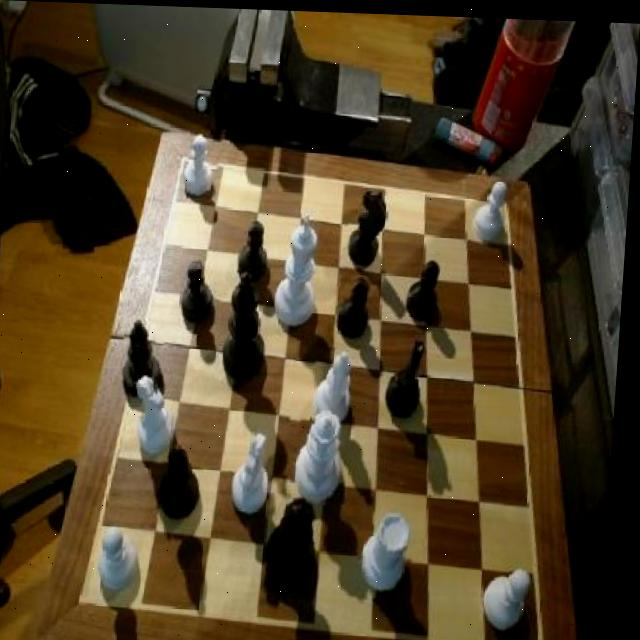bishop: (123, 319, 170, 399), (165, 444, 210, 521)
black-bishop: (220, 270, 272, 382)
black-king: (385, 335, 434, 417), (347, 187, 394, 272)
black-knight: (178, 259, 220, 328), (338, 272, 379, 338), (408, 255, 447, 319), (238, 218, 275, 281)
black-pawn: (271, 492, 325, 589)
black-rook: (314, 347, 359, 426)
white-bishop: (274, 210, 326, 329)
white-king: (234, 426, 283, 515), (135, 372, 184, 459)
white-knight: (489, 561, 544, 633), (102, 524, 148, 593), (182, 130, 223, 198), (473, 174, 513, 240)
white-pawn: (294, 406, 355, 506)
white-queen: (361, 505, 422, 596)
